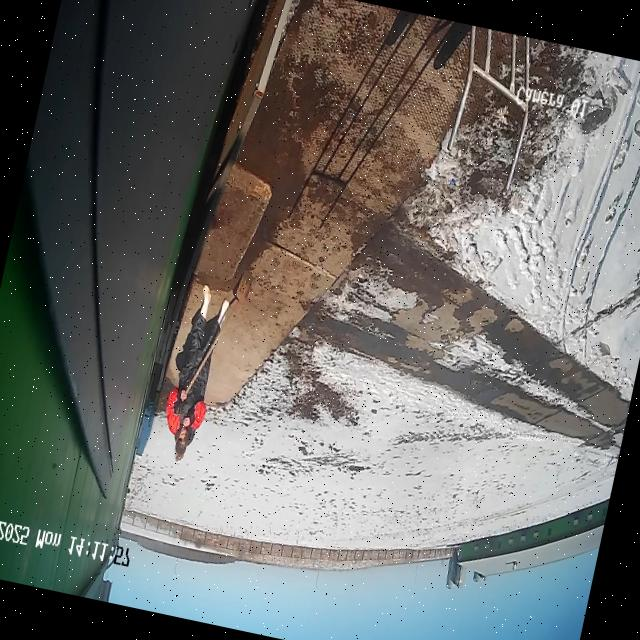Red uniform: (153, 278, 235, 466)
